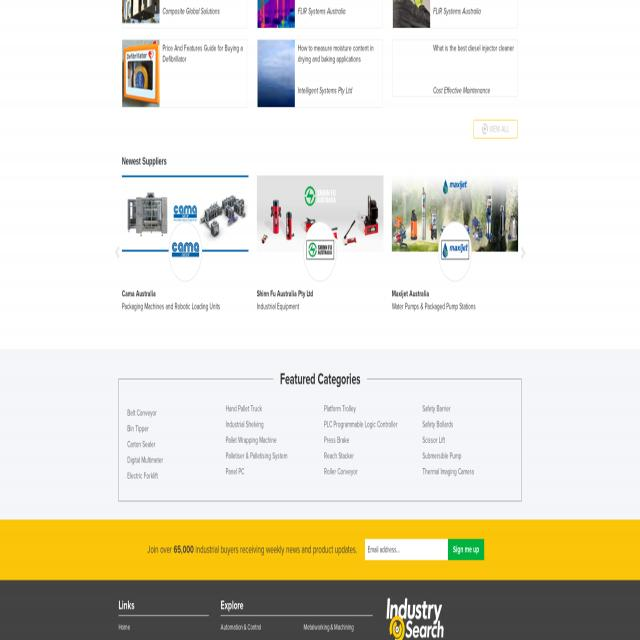button: (125, 176, 252, 252), (257, 176, 383, 252), (392, 176, 518, 252), (122, 40, 246, 107), (258, 40, 382, 107), (392, 40, 519, 98), (257, 0, 382, 29), (392, 0, 517, 29), (122, 0, 246, 28), (382, 591, 448, 640), (437, 222, 472, 282), (303, 222, 336, 283), (168, 223, 201, 283), (474, 120, 517, 138), (448, 539, 484, 560), (519, 244, 527, 261), (113, 244, 121, 261)
field: (365, 539, 448, 560)
